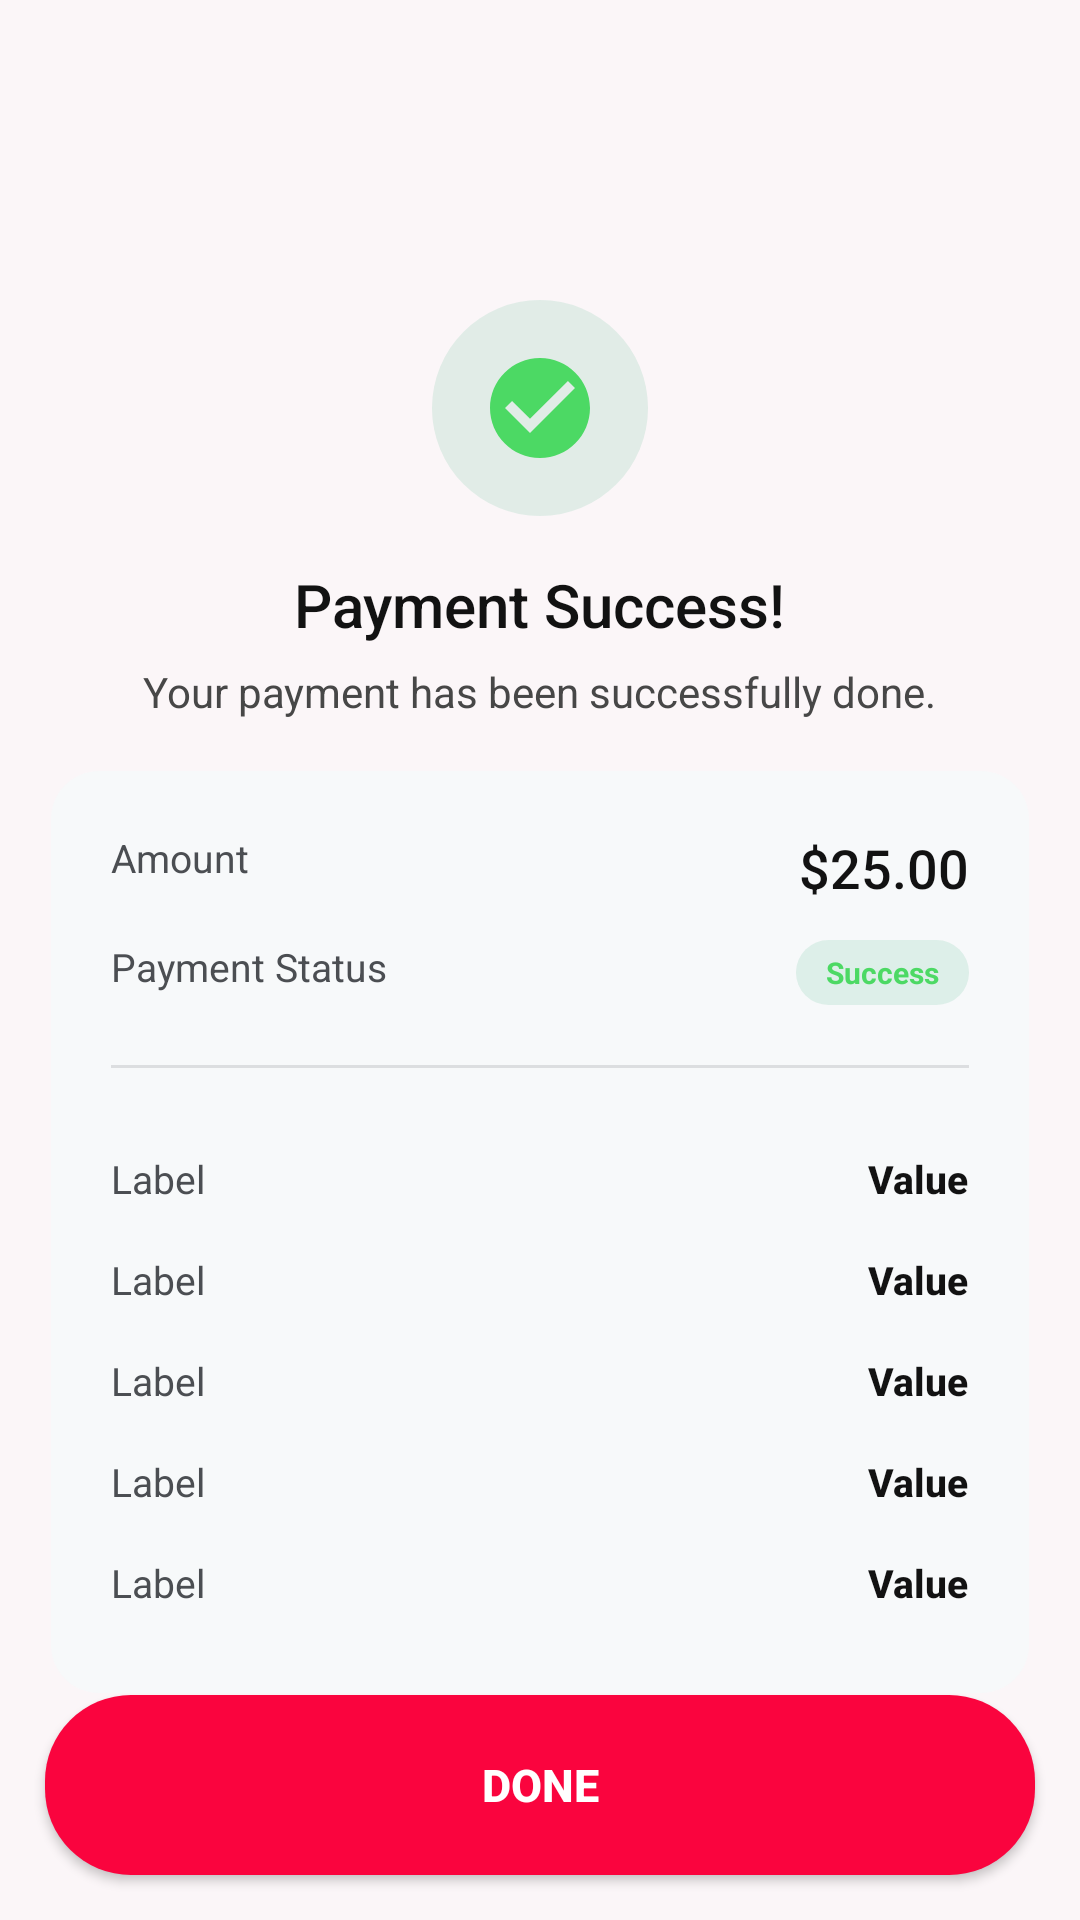

Icons on this 1080px x 1920px Android screen, each with the point to tap as [x,y]:
tick circle: [540,408]
